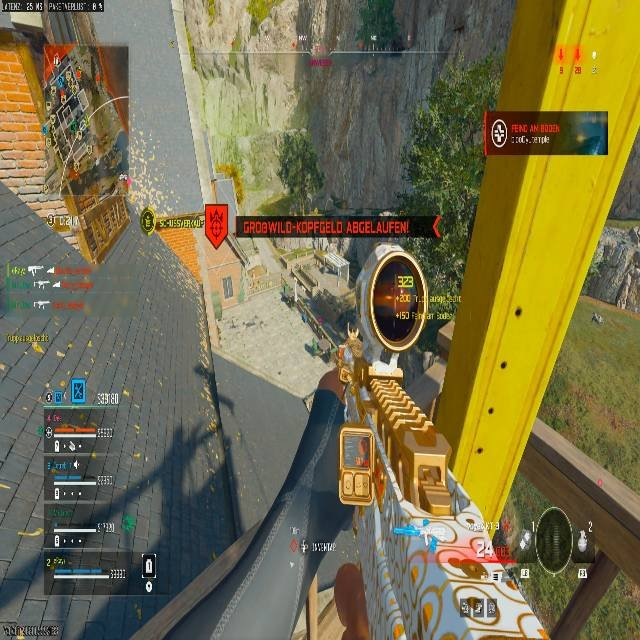head: (359, 245, 427, 340)
player: (296, 243, 480, 637)
